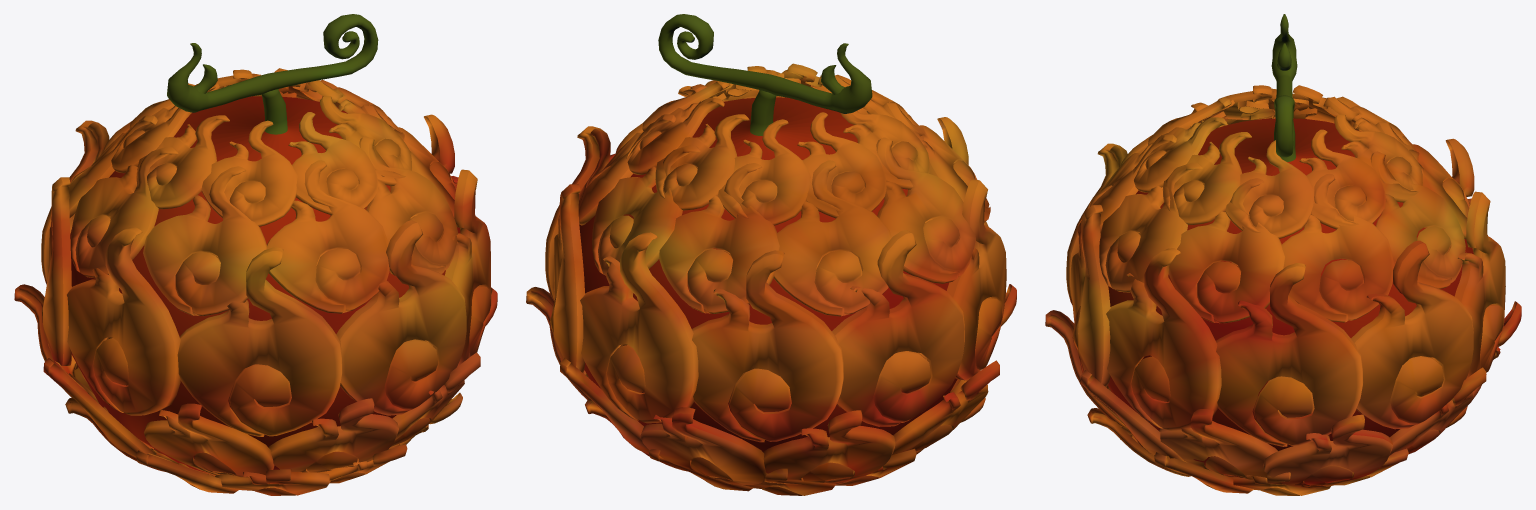
3 renders of one model, left to right at view 1: azimuth 30°, elevation 25°; view 2: azimuth 150°, elevation 25°; view 3: azimuth 270°, elevation 25°, orthographic. The views are drawn at different scales.
Visible parts, largest first — view 1: Mera Mera no mi_0; view 2: Mera Mera no mi_0; view 3: Mera Mera no mi_0.
Part boxes in pixels (bbox=[...]): Mera Mera no mi_0: bbox=[14, 14, 497, 495]; Mera Mera no mi_0: bbox=[526, 14, 1016, 495]; Mera Mera no mi_0: bbox=[1045, 14, 1521, 495].
Size of the model in its own units: 5.31 by 5.07 by 5.31.
